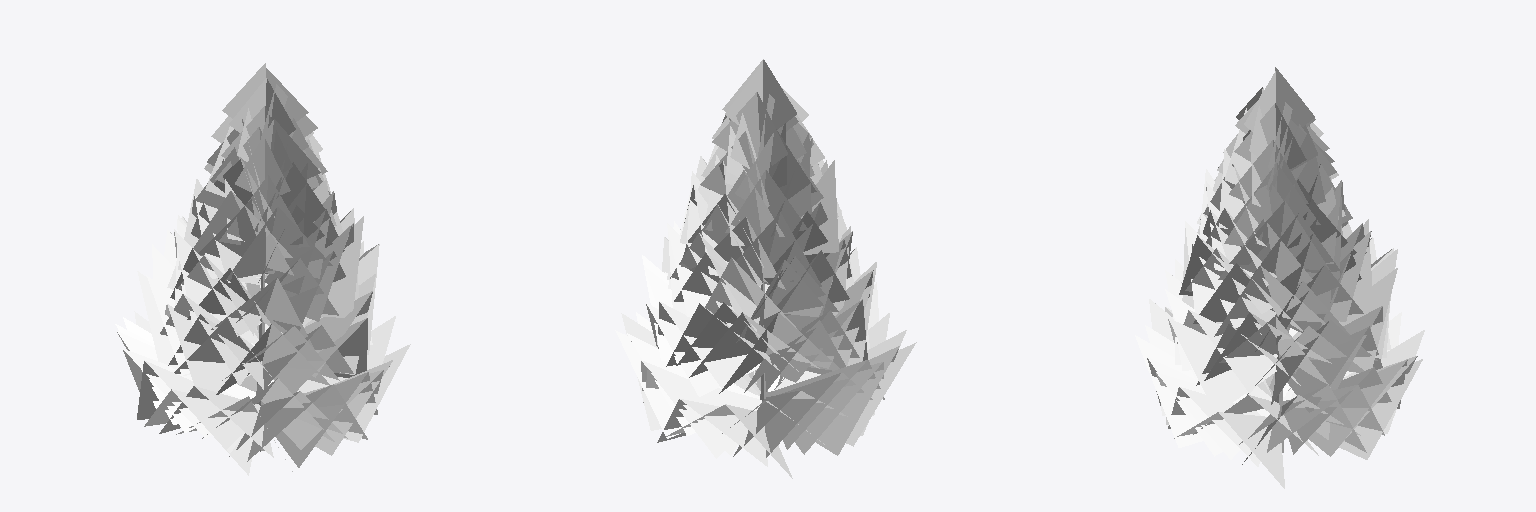
File: fir.obj
3 renders of one model, left to right at view 1: azimuth 30°, elevation 25°; view 2: azimuth 150°, elevation 25°; view 3: azimuth 270°, elevation 25°, orthographic.
Visible parts, largest first — view 1: g2 Mesh; view 2: g2 Mesh; view 3: g2 Mesh.
Boxes of the visible parts, x1=… form: g2 Mesh: x1=115, y1=63, x2=410, y2=475; g2 Mesh: x1=615, y1=59, x2=916, y2=478; g2 Mesh: x1=1135, y1=67, x2=1424, y2=488.
Size of the model in its own units: 3.31 by 4.91 by 3.34.